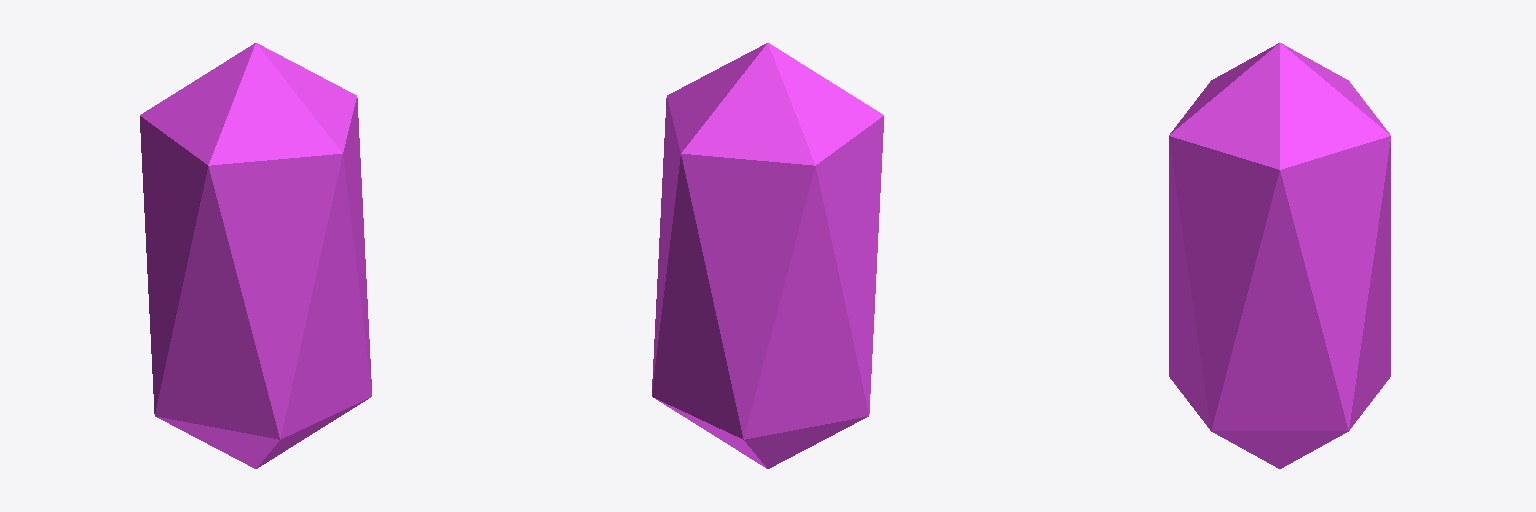
3 views of the same model, side by side, from view 1: azimuth 30°, elevation 25°; view 2: azimuth 150°, elevation 25°; view 3: azimuth 270°, elevation 25° (orthographic).
Visible parts, largest first — view 1: Icosphere; view 2: Icosphere; view 3: Icosphere.
Boxes of the visible parts, box(x1,y1,x2,y2) form: Icosphere: box(140, 43, 371, 468); Icosphere: box(652, 43, 883, 468); Icosphere: box(1169, 43, 1390, 468).
Bounding box in the file's own units: 1.79 × 3.6 × 1.7.
1 materials, 1 textured.